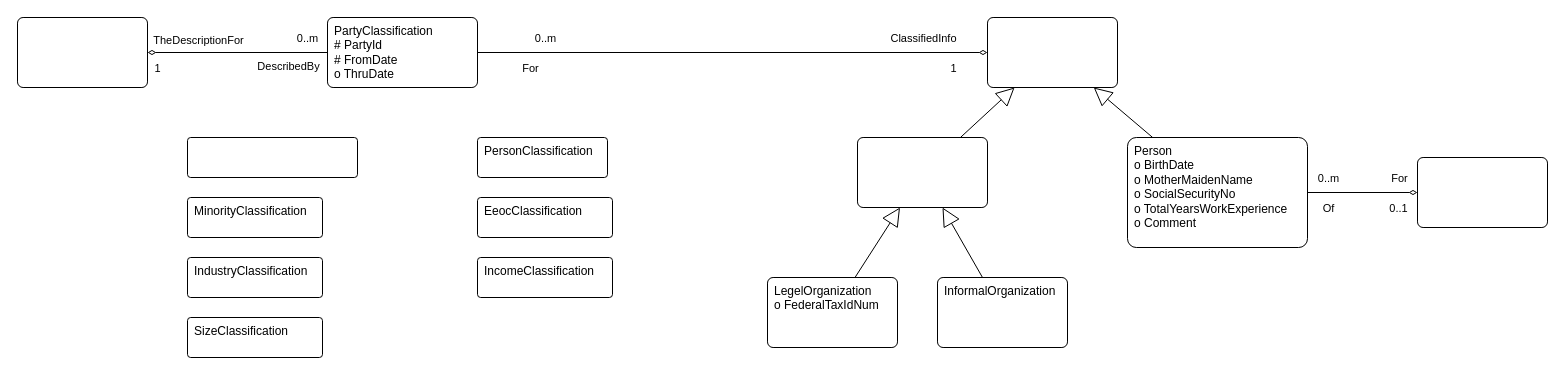
Image size: 1565x375. Some labels were removed from this diagram. The shapes that lost their labels are listed below. From the top down, each one's centre as x and y in pixels, then its label:
At [82,52]: "PartyType # Id * Description".
At [1052,52]: "Party # Id".
At [272,157]: "OrganizationClassification".
At [922,172]: "Oranization * Name".
At [1482,192]: "GenderType # Id * Description".
